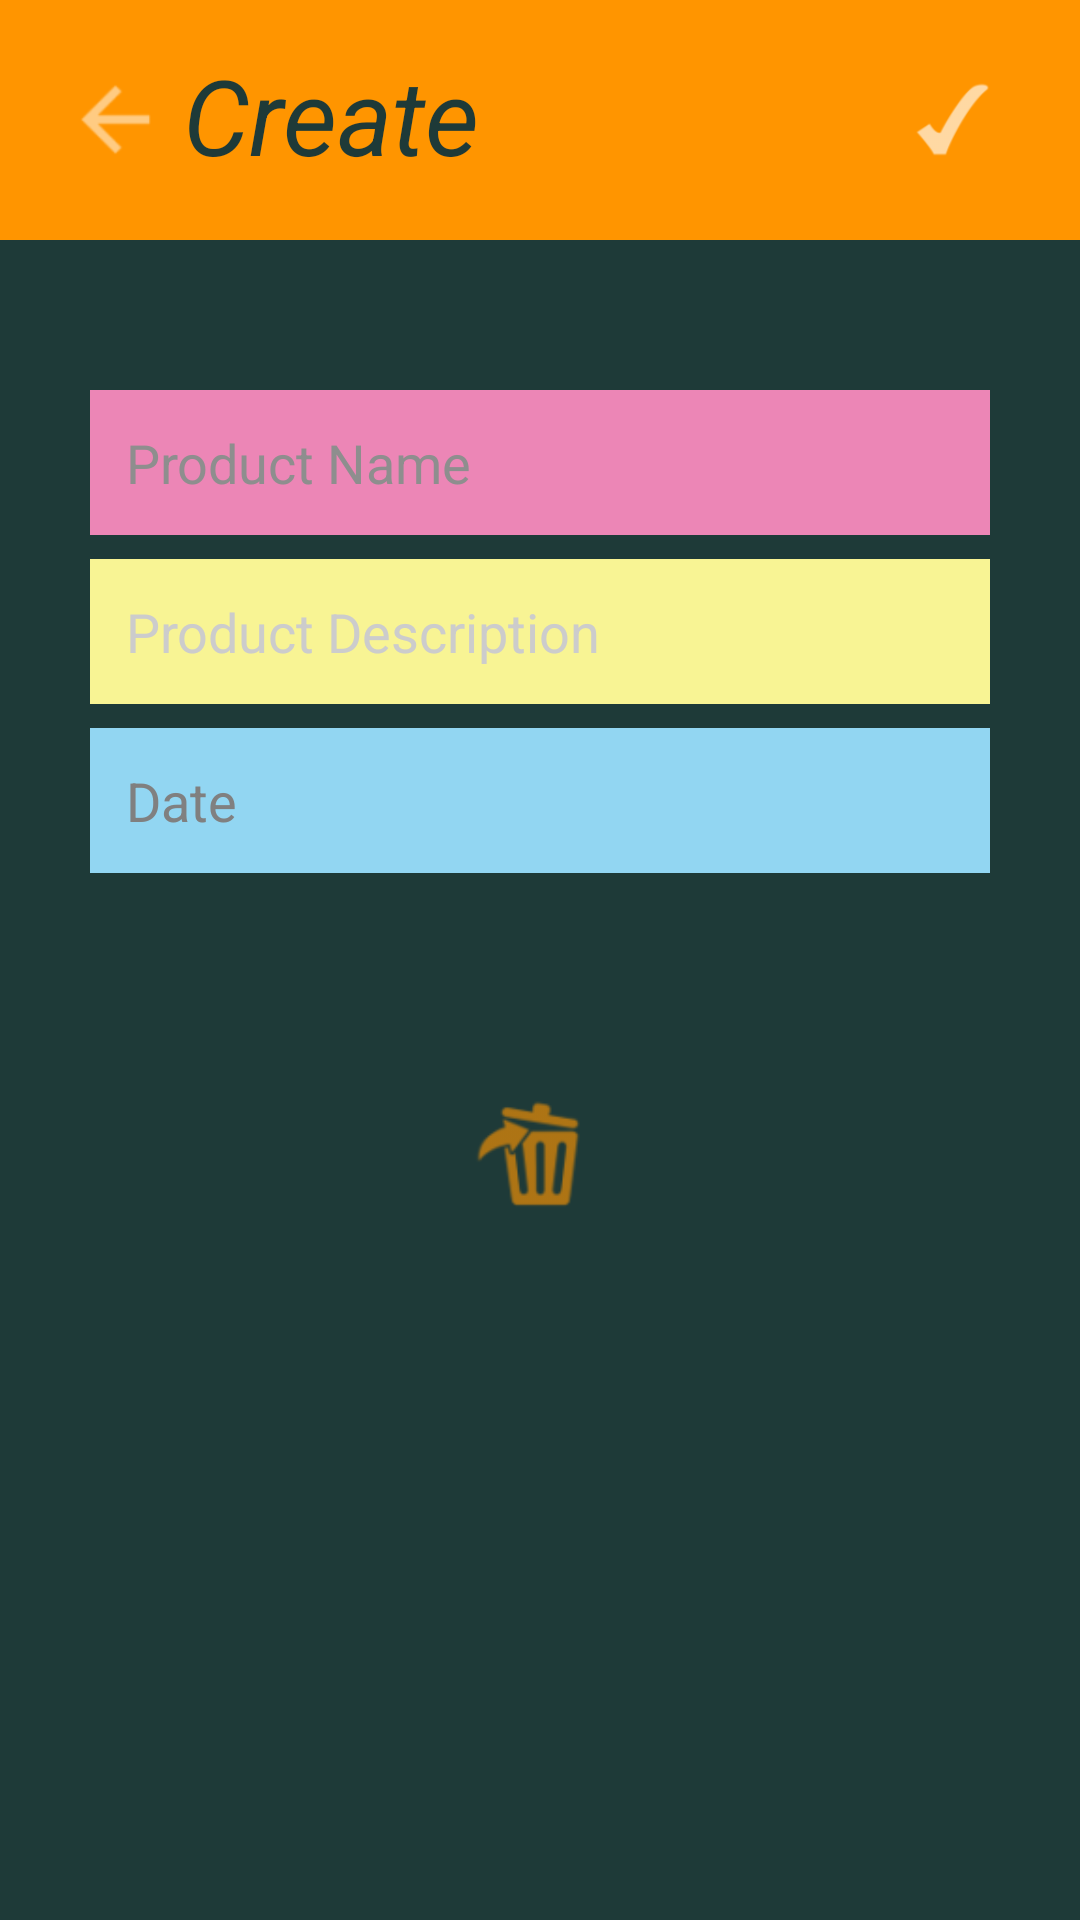

Icons on this 1080px×1920px Android screen, each with its box as box(x1, y1, x2, y2):
back: box(81, 85, 150, 154)
delete: box(478, 1102, 579, 1206)
done: box(917, 84, 989, 155)
